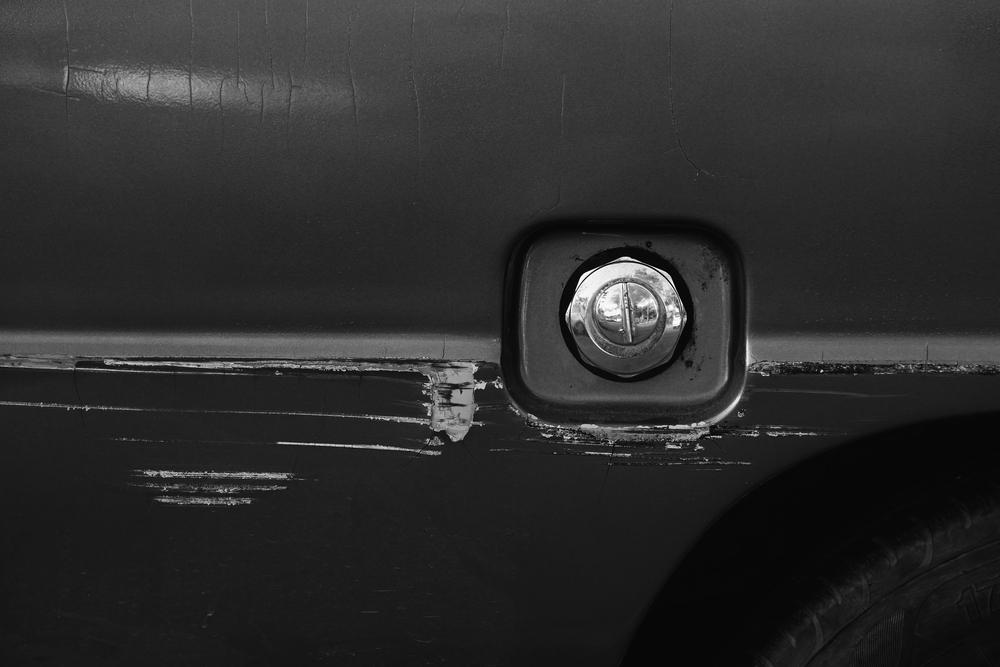scratch: (0, 351, 1000, 510)
